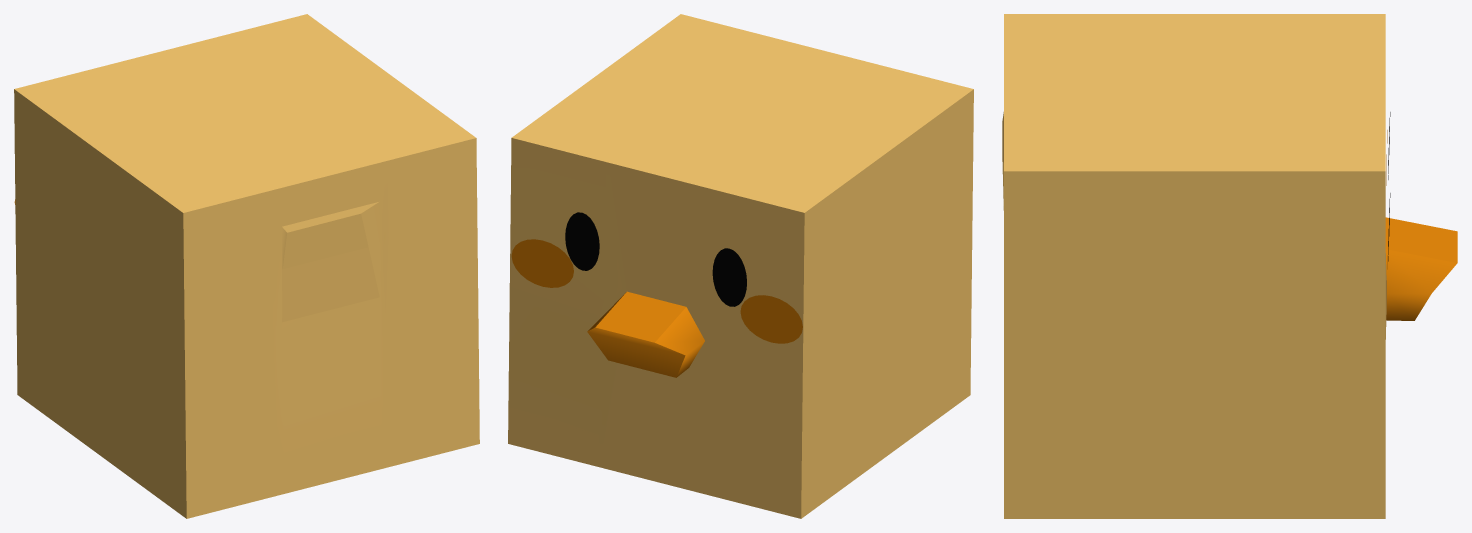
File: Cube Still.fbx
3 views of the same model, side by side, from view 1: azimuth 30°, elevation 25°; view 2: azimuth 150°, elevation 25°; view 3: azimuth 270°, elevation 25° (orthographic). The views are drawn at different scales.
Parts seen in each view (by area): view 1: DUCK_BODY; view 2: DUCK_BODY; view 3: DUCK_BODY.
Boxes of the visible parts, <box> form: DUCK_BODY: <box>14,14,479,518</box>; DUCK_BODY: <box>508,14,973,518</box>; DUCK_BODY: <box>1002,14,1457,518</box>.
Bounding box in the file's own units: 101 × 101 × 119.
